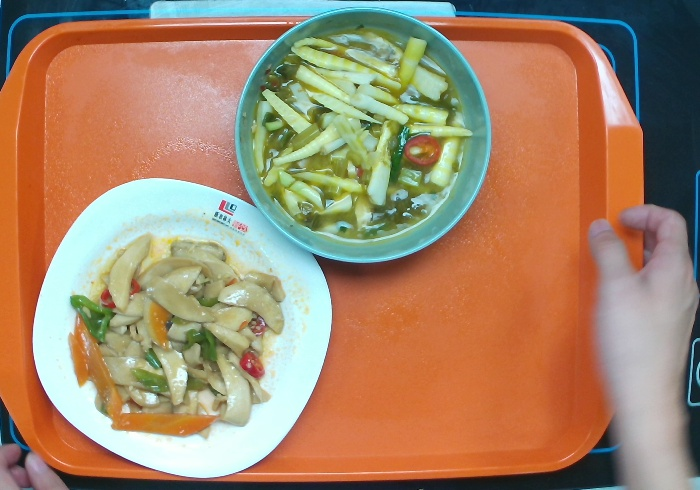ZNLD-Qing_Hua_Yuan_Wan: (232, 1, 499, 273)
ZNLD-Yuan_Jiao_Pan: (29, 170, 341, 490)
